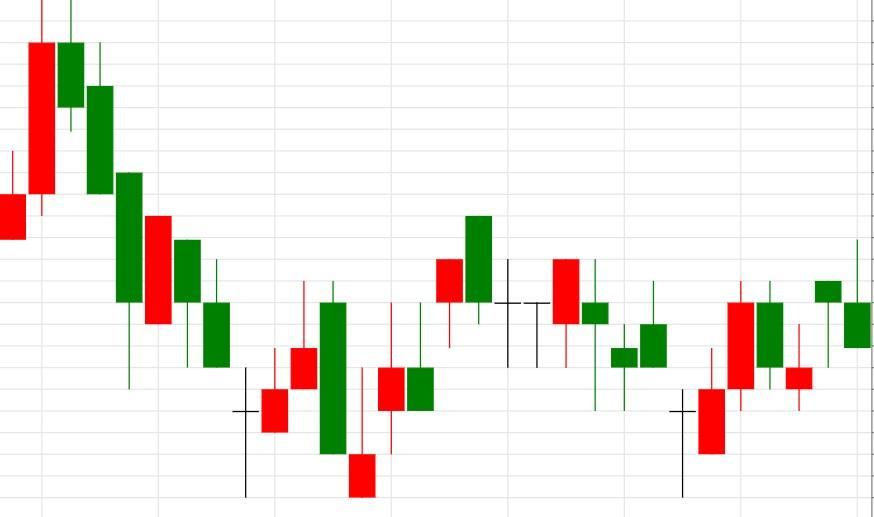bearish_engulfing_fall: (231, 280, 347, 498)
hanging_man_fall: (668, 281, 843, 498)
inverse_hammer_rise: (27, 0, 377, 498)
